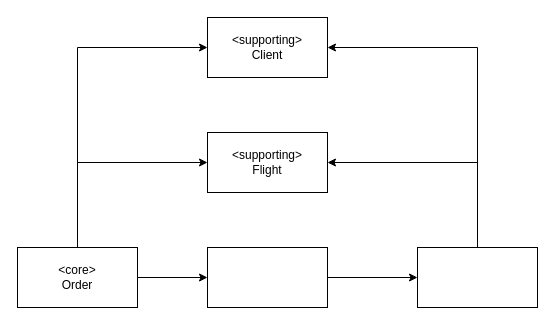
Image size: 555x325. Some labels were removed from this diagram. Here are the shapes that lost their labels. From the top down, the centre of each, then its label:
At point 267,277: "<supporting> Transaction".
At point 477,277: "<supporting> Calculation".
